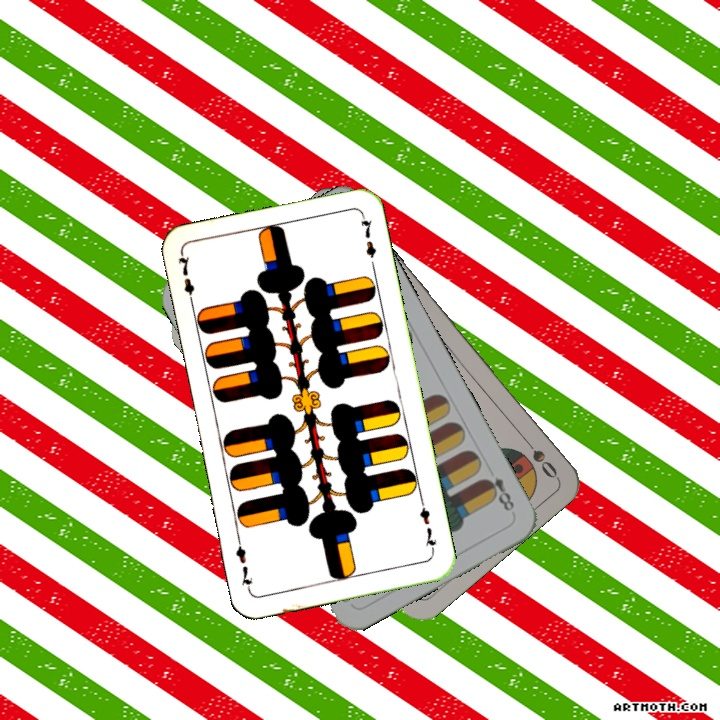E7: (173, 250, 198, 309), (415, 497, 440, 555)
E8: (479, 473, 517, 514)
SO: (517, 431, 560, 481)
